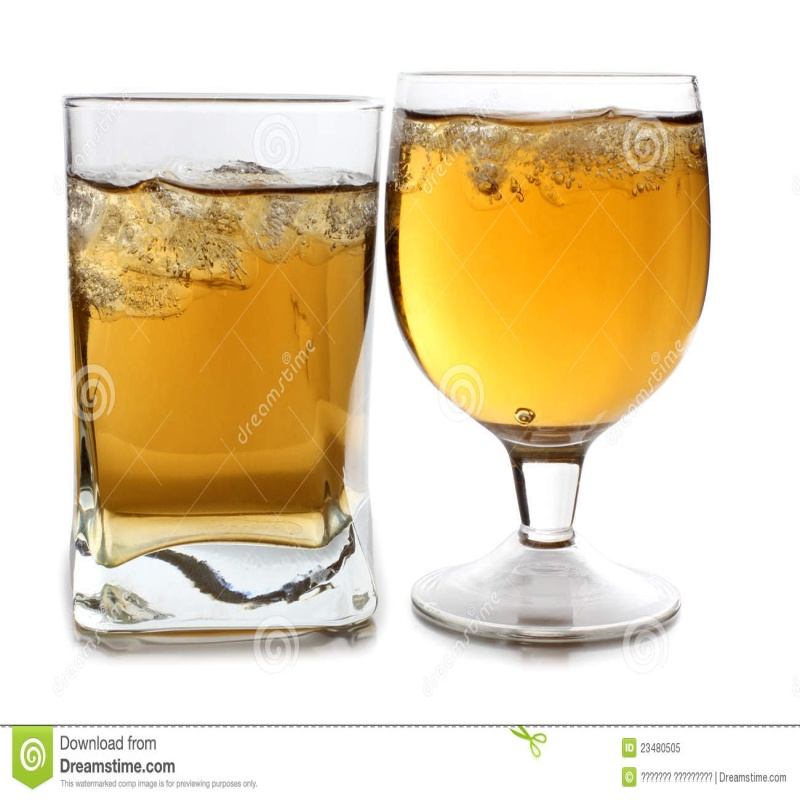whiskey: (61, 93, 383, 644), (382, 61, 710, 471)
